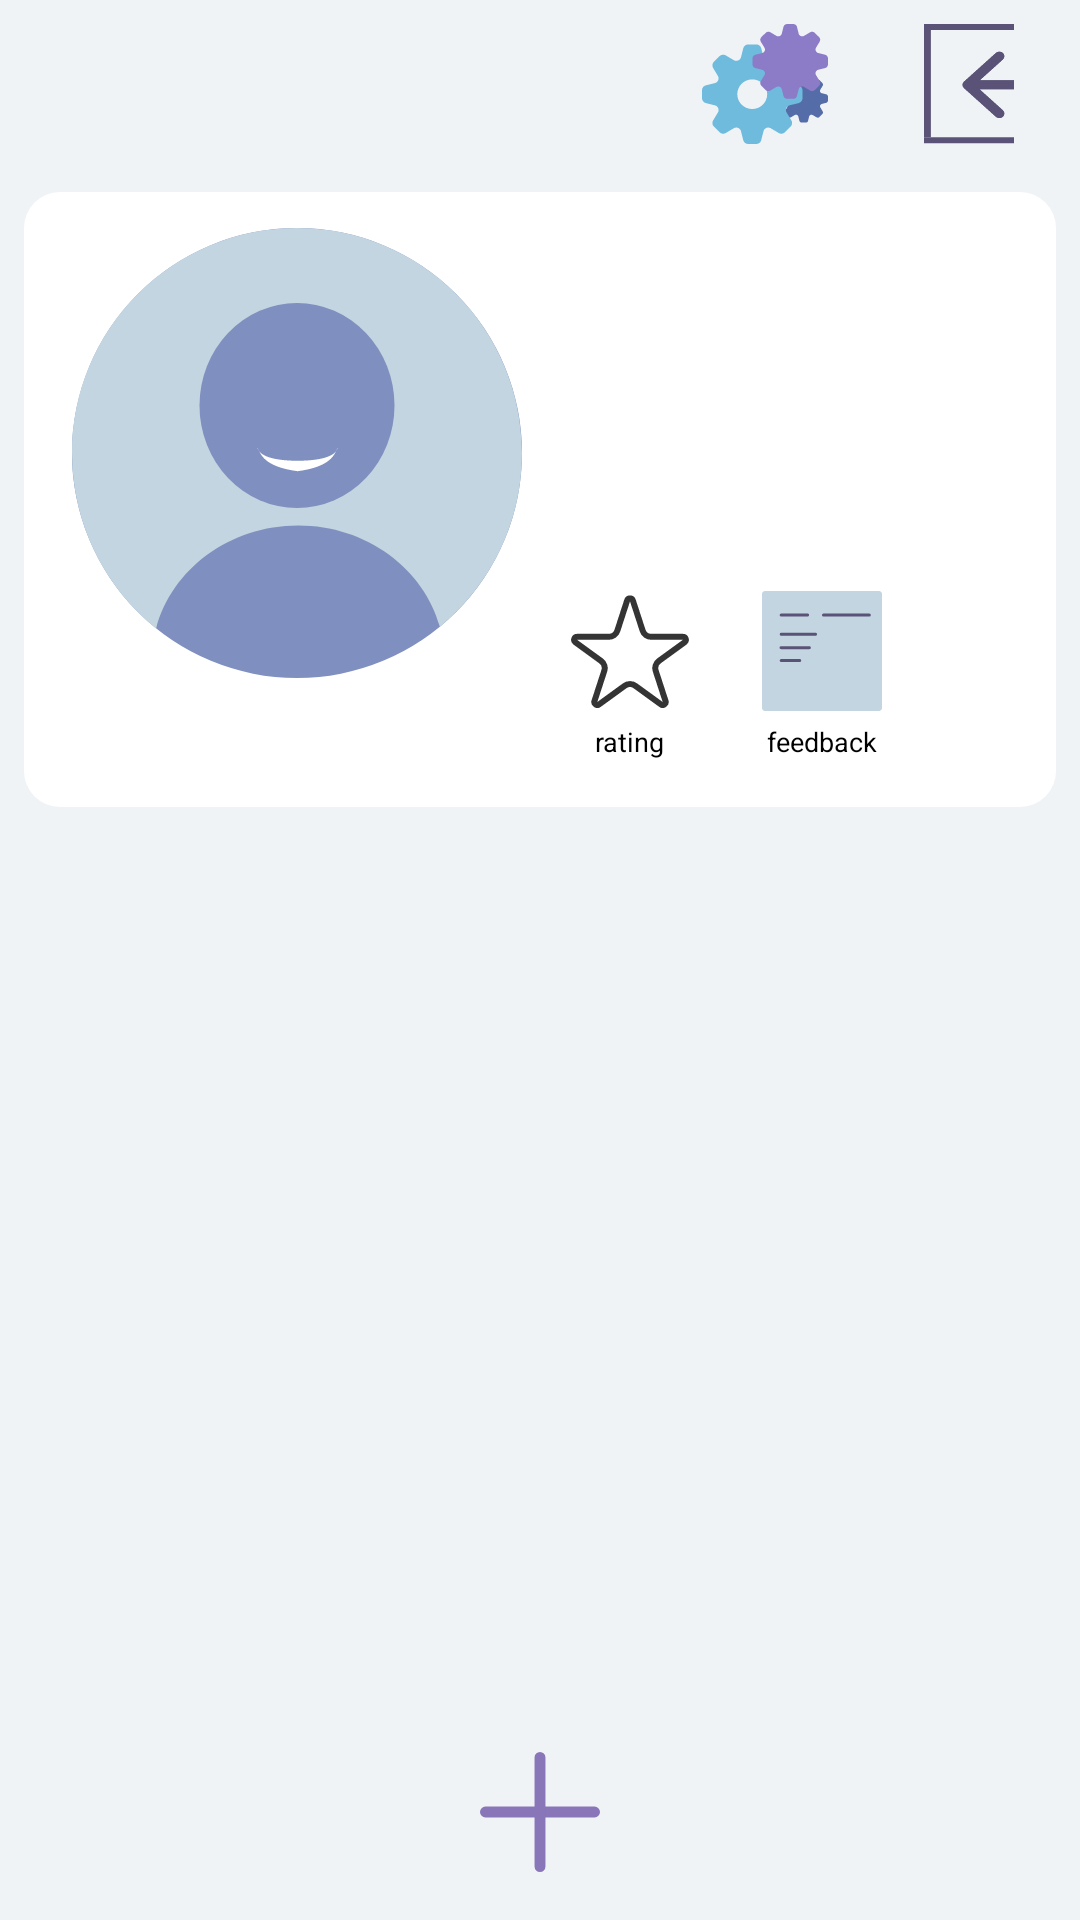

Named icons in this screenshot (1080 x 1920) and their centers, [x,y]:
plus: [540,1812]
settings: [765,84]
signout: [969,84]
star stroke: [630,651]
